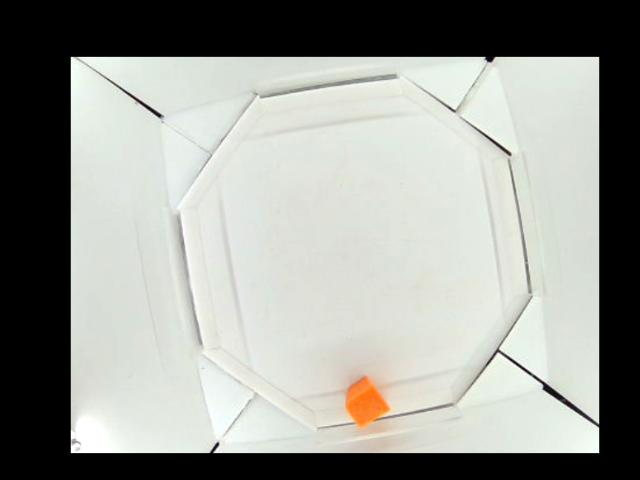Carrot: (343, 378, 390, 428)
